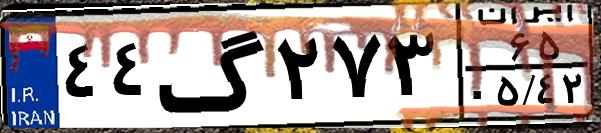0: (470, 70, 495, 125)
2: (270, 28, 330, 110), (560, 70, 590, 125)
3: (385, 28, 445, 110)
4: (57, 26, 110, 100), (110, 28, 156, 98), (535, 70, 560, 125)
5: (537, 27, 568, 80), (495, 70, 520, 125)
6: (508, 27, 537, 80)
7: (330, 28, 385, 110)
گ: (156, 12, 270, 120)
